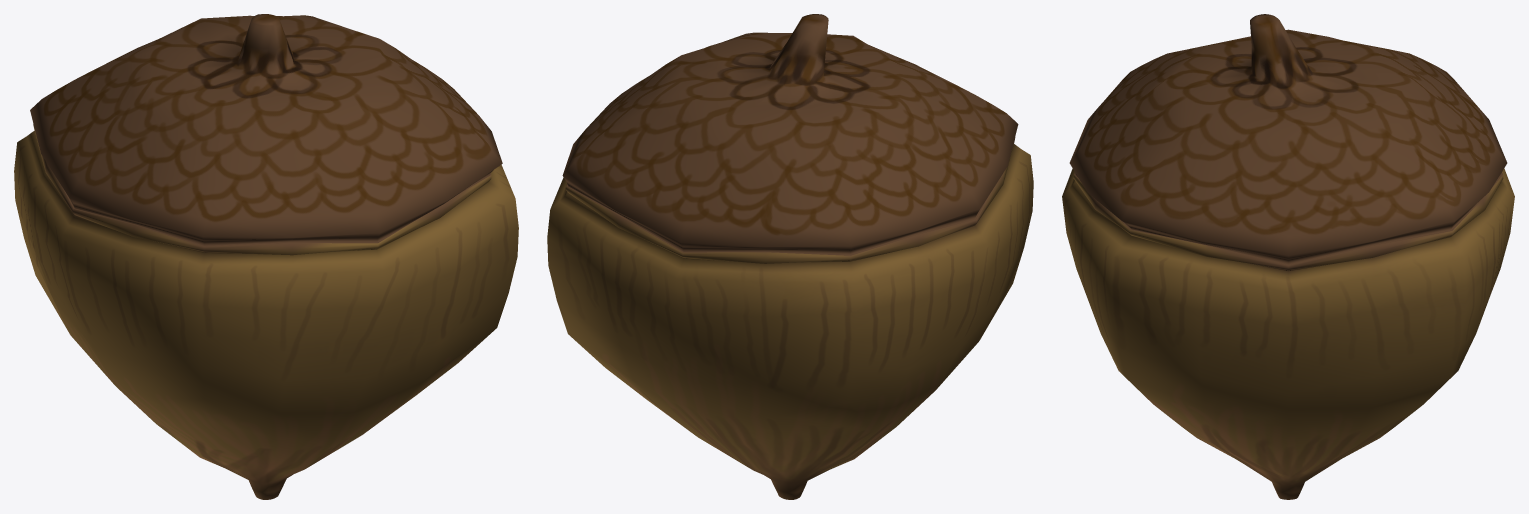
The model's file is noisette.glb.
3 views of the same model, side by side, from view 1: azimuth 30°, elevation 25°; view 2: azimuth 150°, elevation 25°; view 3: azimuth 270°, elevation 25° (orthographic). The views are drawn at different scales.
Visible parts, largest first — view 1: noisette; view 2: noisette; view 3: noisette.
Boxes of the visible parts, x1,y1,x2,y2 form: noisette: [14, 14, 518, 499]; noisette: [547, 14, 1033, 499]; noisette: [1062, 14, 1514, 499].
Bounding box in the file's own units: 2.79 × 3.21 × 2.79.
1 material, 1 textured.
